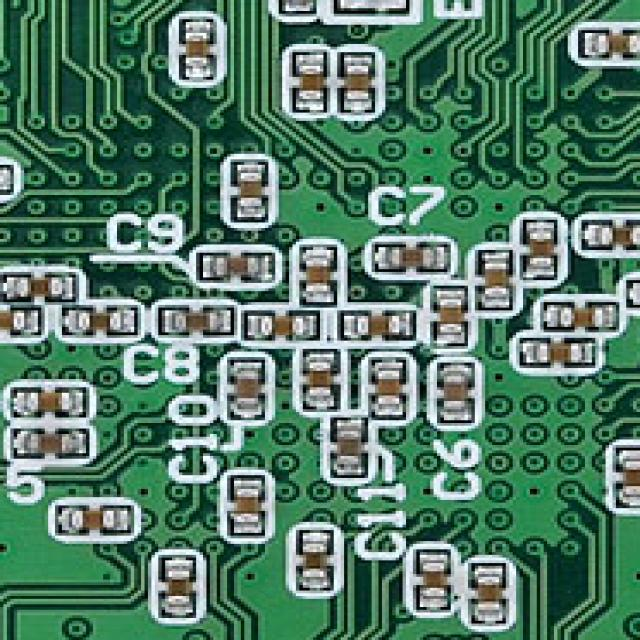capacitor: (148, 544, 200, 618), (169, 11, 220, 82), (286, 522, 337, 593), (190, 244, 276, 286), (289, 236, 341, 305), (220, 151, 268, 225), (152, 297, 238, 338), (509, 332, 599, 371), (365, 236, 454, 275), (513, 211, 561, 283), (48, 498, 134, 538), (220, 349, 268, 420), (324, 409, 372, 478), (461, 558, 509, 626), (472, 242, 516, 316), (331, 47, 378, 115), (434, 357, 482, 423), (220, 472, 268, 538), (365, 352, 409, 423), (537, 294, 619, 332), (241, 305, 323, 343), (567, 19, 640, 60), (296, 346, 341, 412), (7, 423, 89, 459), (59, 299, 134, 338), (430, 280, 472, 349), (4, 382, 90, 415), (406, 541, 447, 610), (0, 266, 83, 300), (334, 305, 413, 340), (286, 47, 324, 115), (578, 212, 640, 252), (605, 442, 640, 508), (0, 299, 48, 338), (616, 270, 640, 310), (268, 0, 323, 16), (0, 157, 17, 192)
emi filter: (333, 0, 409, 16)
